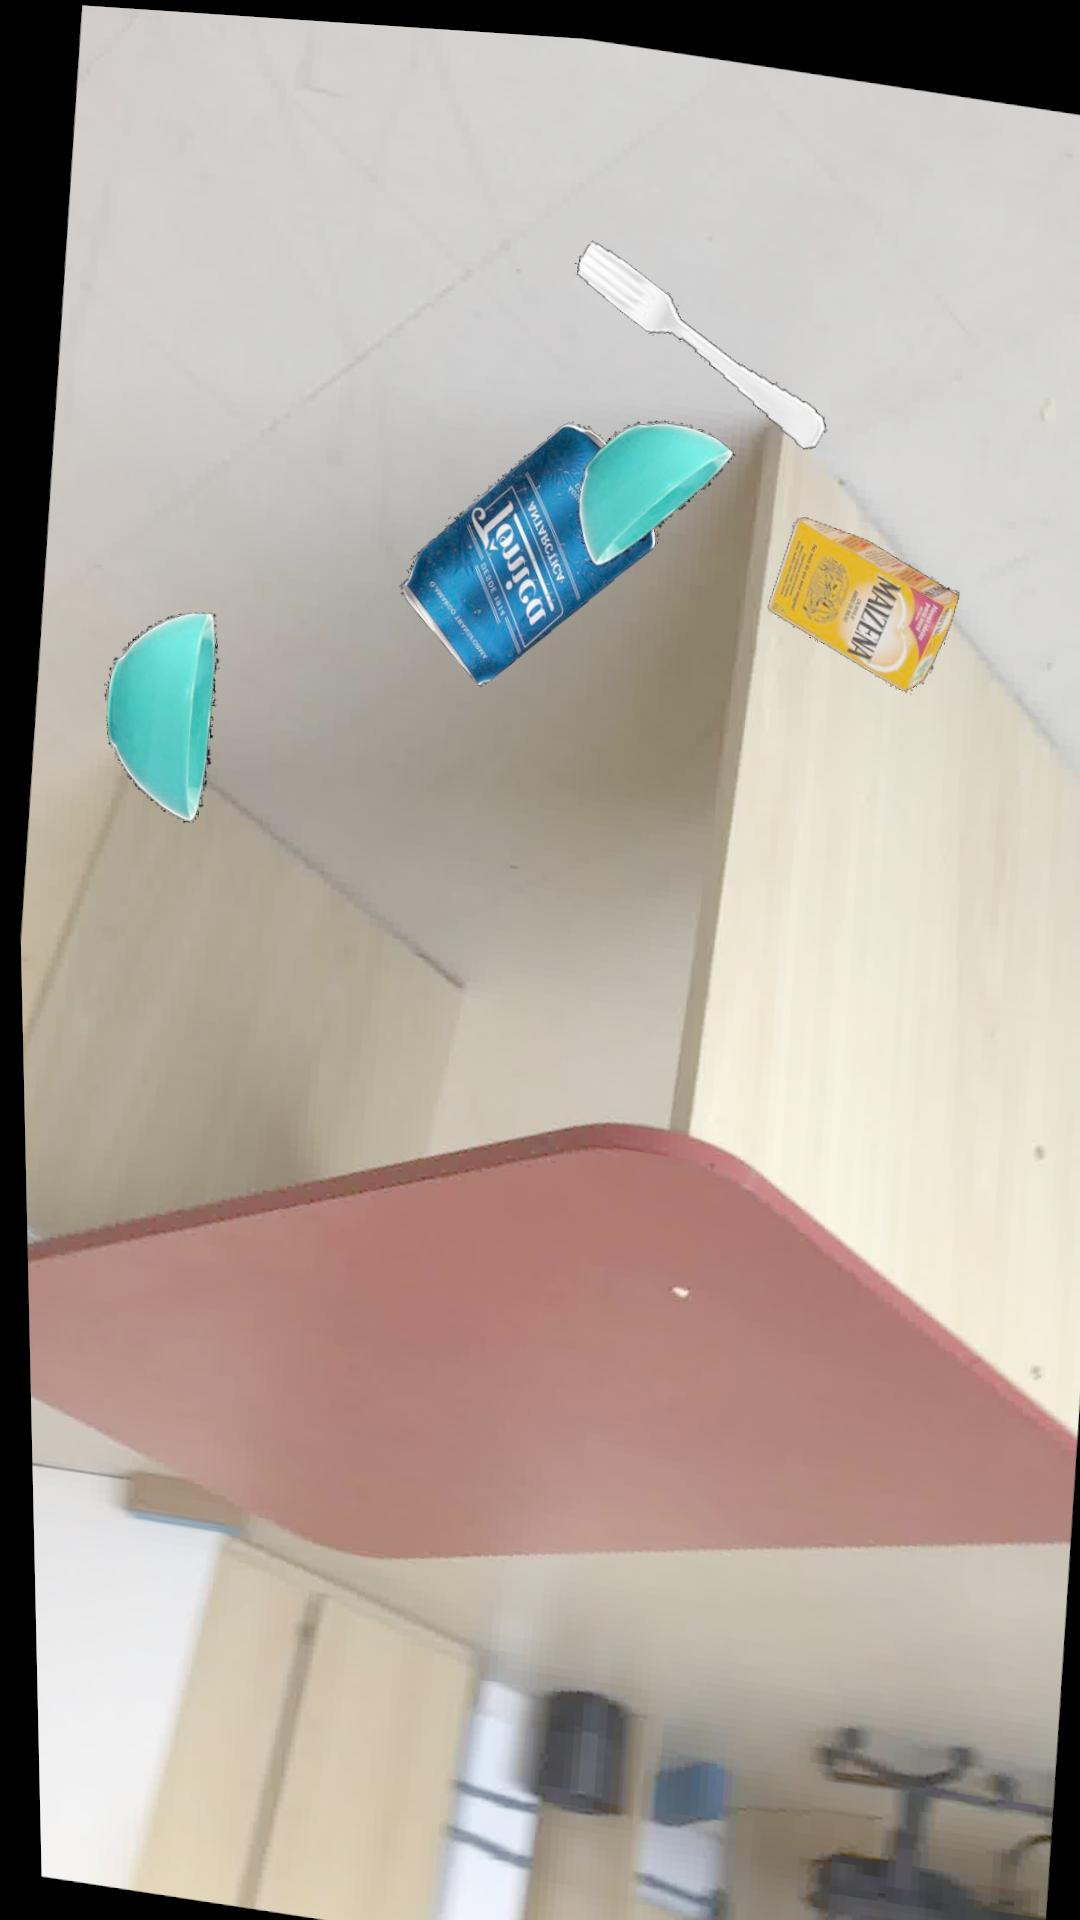bowl: (100, 611, 212, 820), (575, 413, 732, 559)
fork: (574, 233, 823, 440)
tonic: (396, 417, 651, 680)
